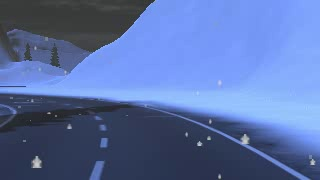Lane: (0, 92, 313, 179)
